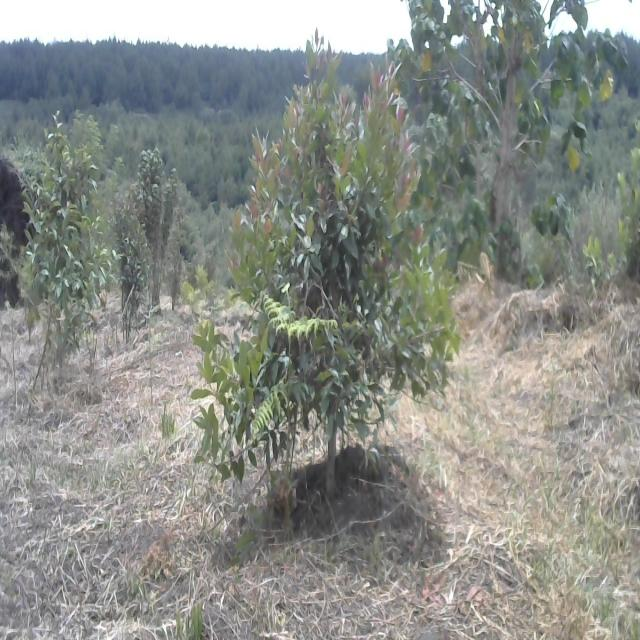Lemon Myrtle: (17, 122, 125, 384)
Syzygium gineense: (198, 9, 449, 523)
other: (401, 0, 640, 287)
